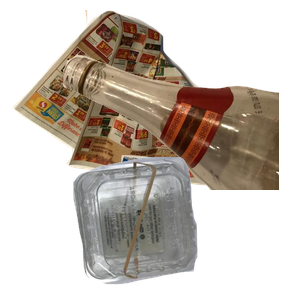glass: (60, 10, 300, 190)
paper: (10, 10, 217, 189)
plastic: (71, 154, 300, 300)
trash: (97, 152, 248, 300)
